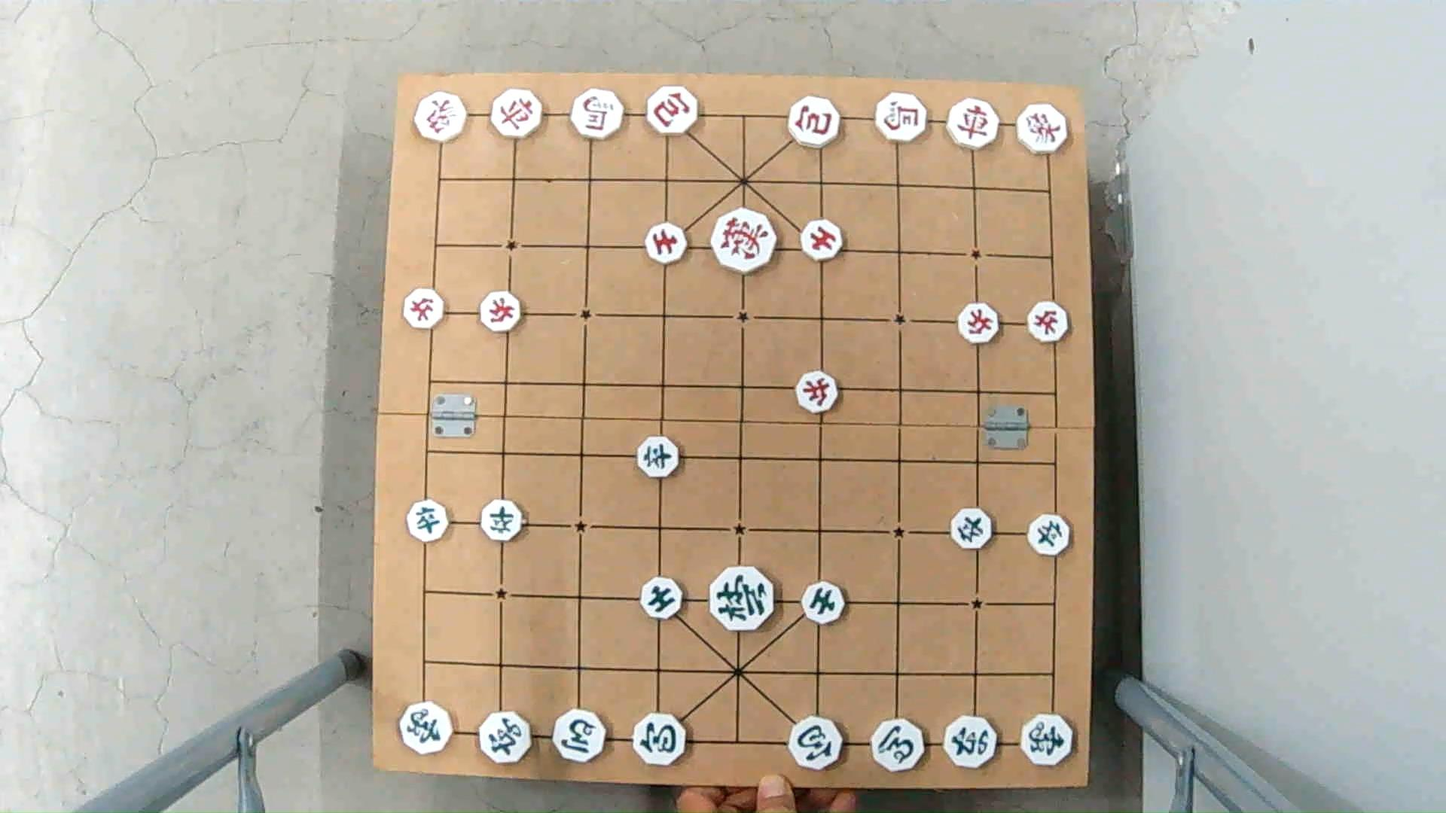cha_green: (942, 717, 1000, 766), (476, 713, 533, 762)
cha_red: (488, 93, 548, 139), (943, 102, 1001, 149)
jol_green: (634, 439, 685, 477), (947, 510, 993, 549), (404, 504, 450, 542), (1025, 517, 1071, 555), (478, 504, 525, 541)
jol_red: (794, 372, 844, 410), (1024, 303, 1069, 341), (954, 303, 1000, 340), (479, 292, 526, 328), (400, 292, 447, 328)
ma_green: (868, 723, 926, 771), (551, 714, 606, 763)
ma_red: (569, 92, 629, 137), (872, 95, 931, 140)
po_green: (789, 717, 846, 770), (630, 717, 686, 766)
po_red: (787, 99, 844, 146), (642, 90, 700, 135)
sa_green: (799, 580, 848, 626), (637, 576, 686, 621)
sa_red: (645, 223, 689, 264), (798, 223, 846, 259)
sang_green: (1017, 717, 1076, 766), (397, 703, 454, 751)
sang_red: (413, 96, 471, 142), (1012, 107, 1069, 153)
wang_green: (706, 571, 776, 629)
wang_red: (709, 209, 778, 269)
